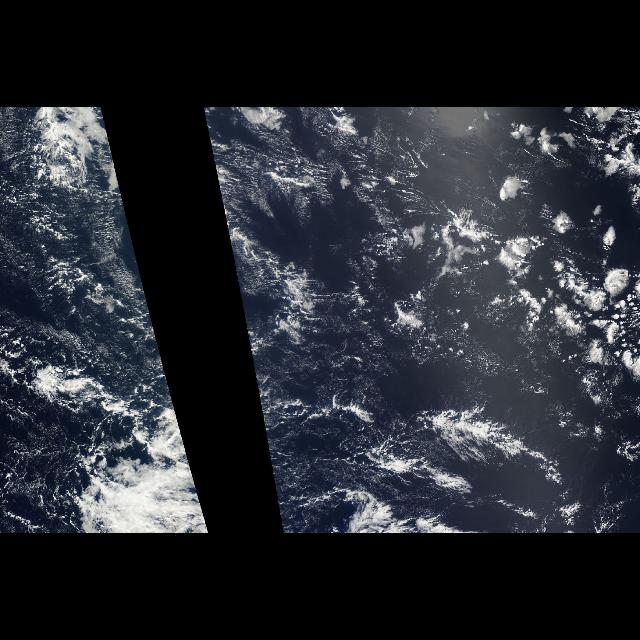Sugar: (212, 142, 380, 264)
